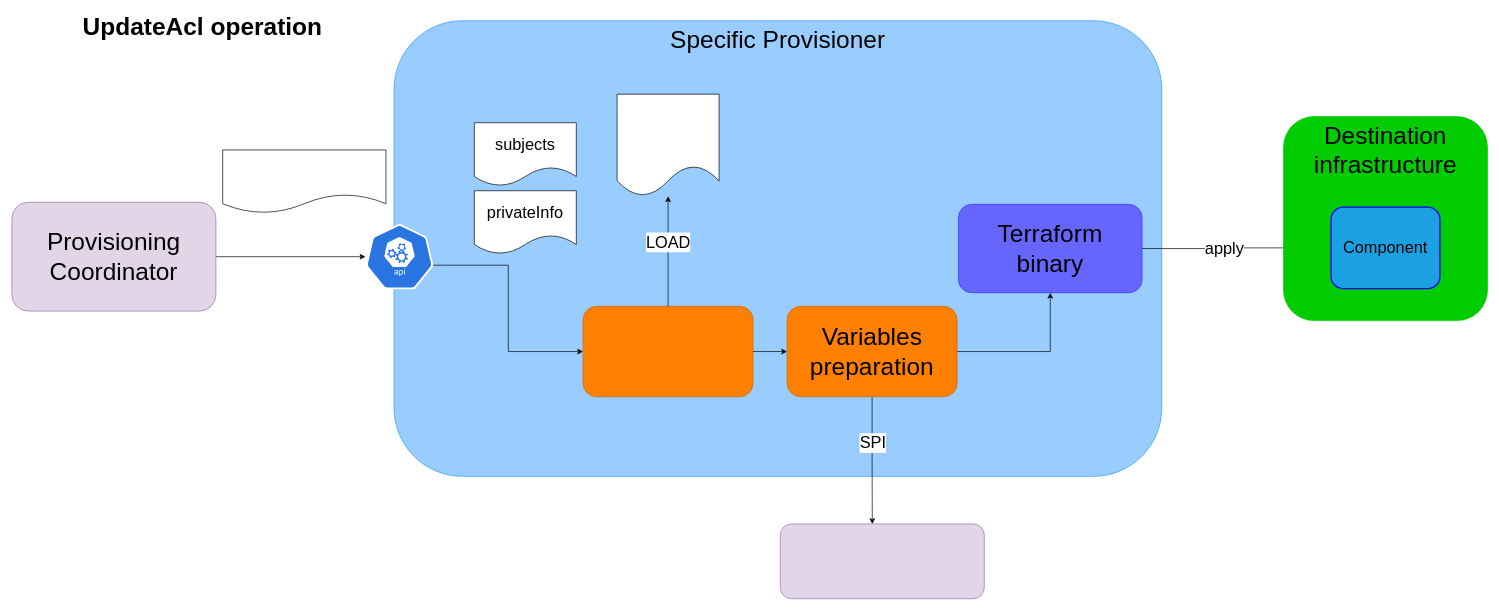
Image size: 1499x611. Some labels were removed from this diagram. The shapes that lost their labels are listed below. From the top down, each one's centre as x and y in pixels, then its label:
At (667,145): "TF acl module".
At (304,181): "UpdateAclRequest".
At (667,351): "Provision logic".
At (882,561): "PrincipalMapper Plugin".
